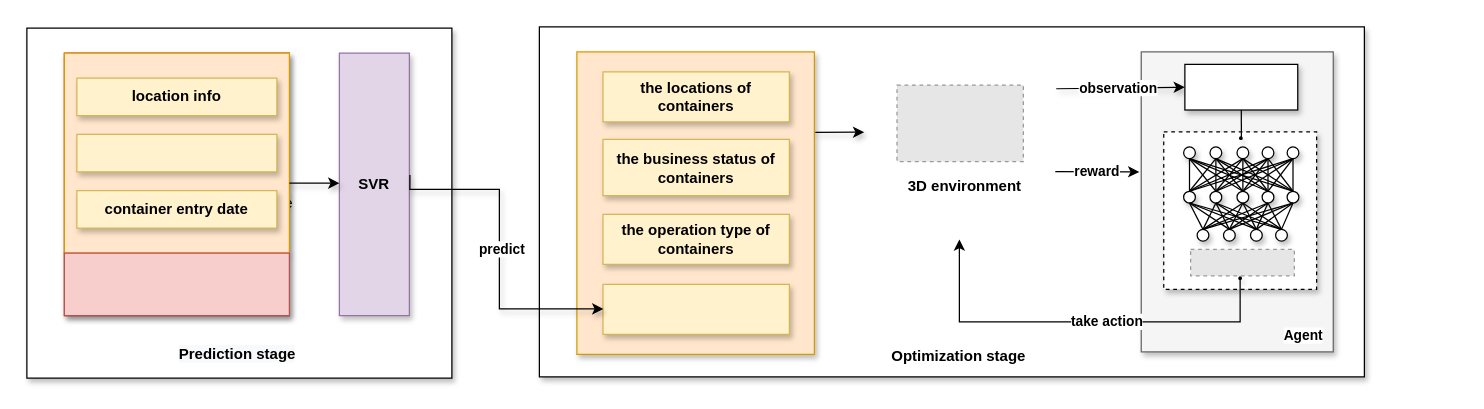
Image size: 1484x409. Some labels were removed from this diagram. Grey dashed boxes stand in for pictures. Here are the shapes that lost their labels. From the top down, the centre of each, then its label:
At point (1242, 88): "State".
At point (177, 154): "company info".
At point (177, 285): "label： container departure date".
At point (697, 310): "the predicted departure date of containers".
